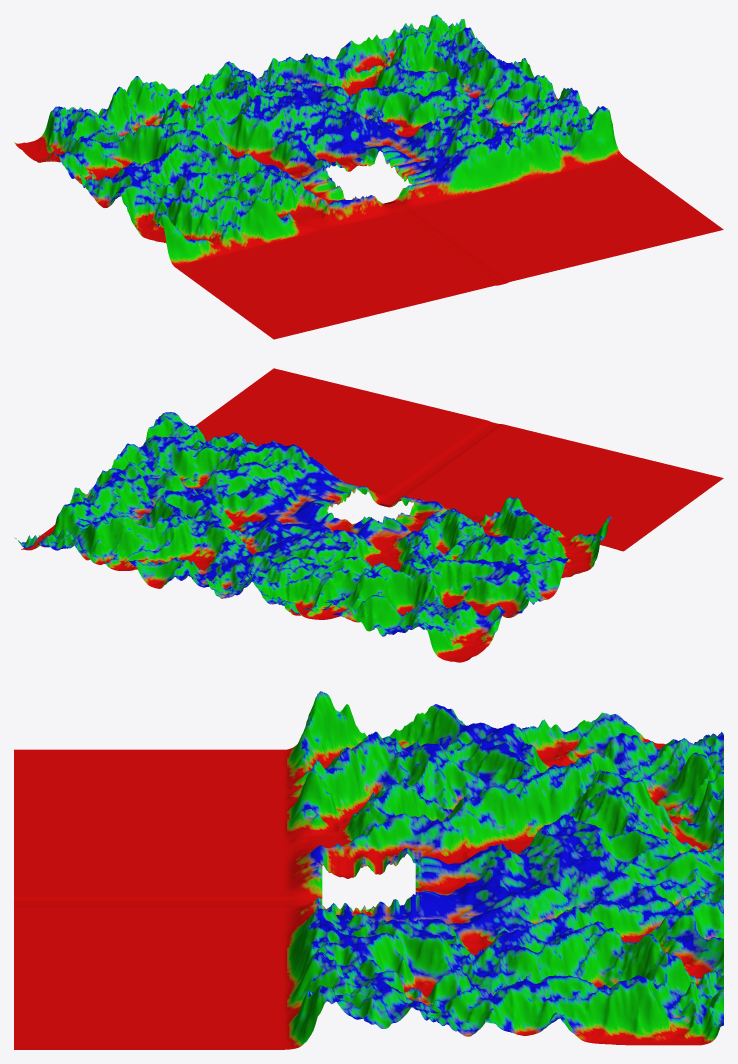
Rendered from far_ranges.glb.
3 views of the same model, one above another, from view 1: azimuth 30°, elevation 25°; view 2: azimuth 150°, elevation 25°; view 3: azimuth 270°, elevation 25° (orthographic). The views are drawn at different scales.
Parts seen in each view (by area): view 1: far_ranges; view 2: far_ranges; view 3: far_ranges.
Boxes of the visible parts, bbox=[...] form: far_ranges: bbox=[14, 14, 723, 339]; far_ranges: bbox=[14, 368, 723, 662]; far_ranges: bbox=[14, 691, 723, 1049].
Size of the model in its own units: 16000 by 1545 by 16000.
